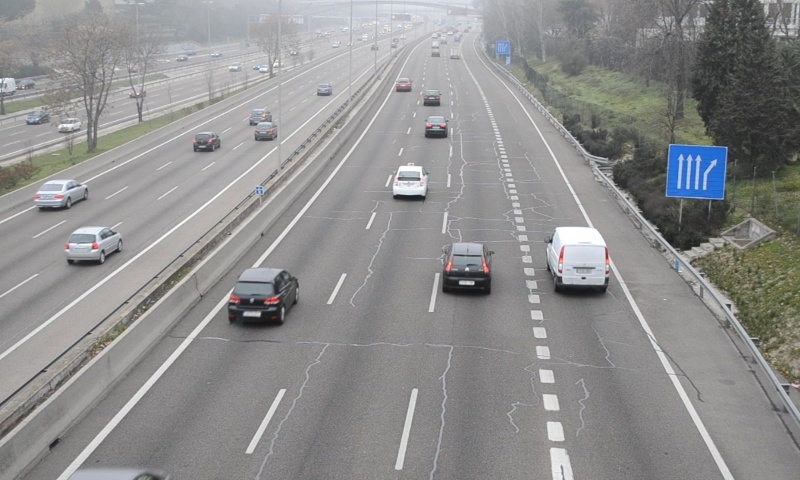car: (224, 269, 298, 326), (444, 243, 490, 293), (392, 165, 426, 198), (424, 115, 448, 139), (422, 88, 441, 107), (395, 78, 410, 92)
van: (548, 226, 609, 293)
